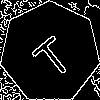T: (25, 27, 76, 82)
